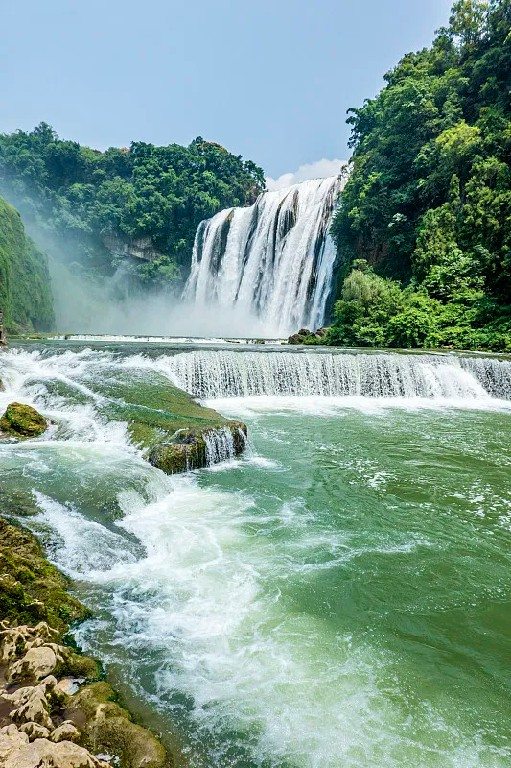Huangguoshu: (177, 177, 337, 335)
